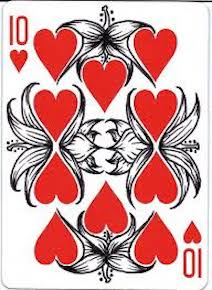TenOfHearts: (7, 8, 207, 285)
